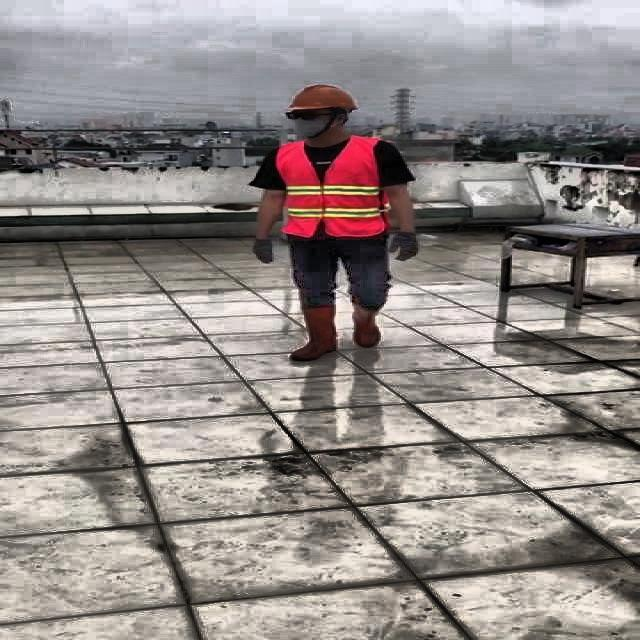safety_helmet: (288, 84, 360, 112)
safety_jacket: (278, 140, 386, 239)
